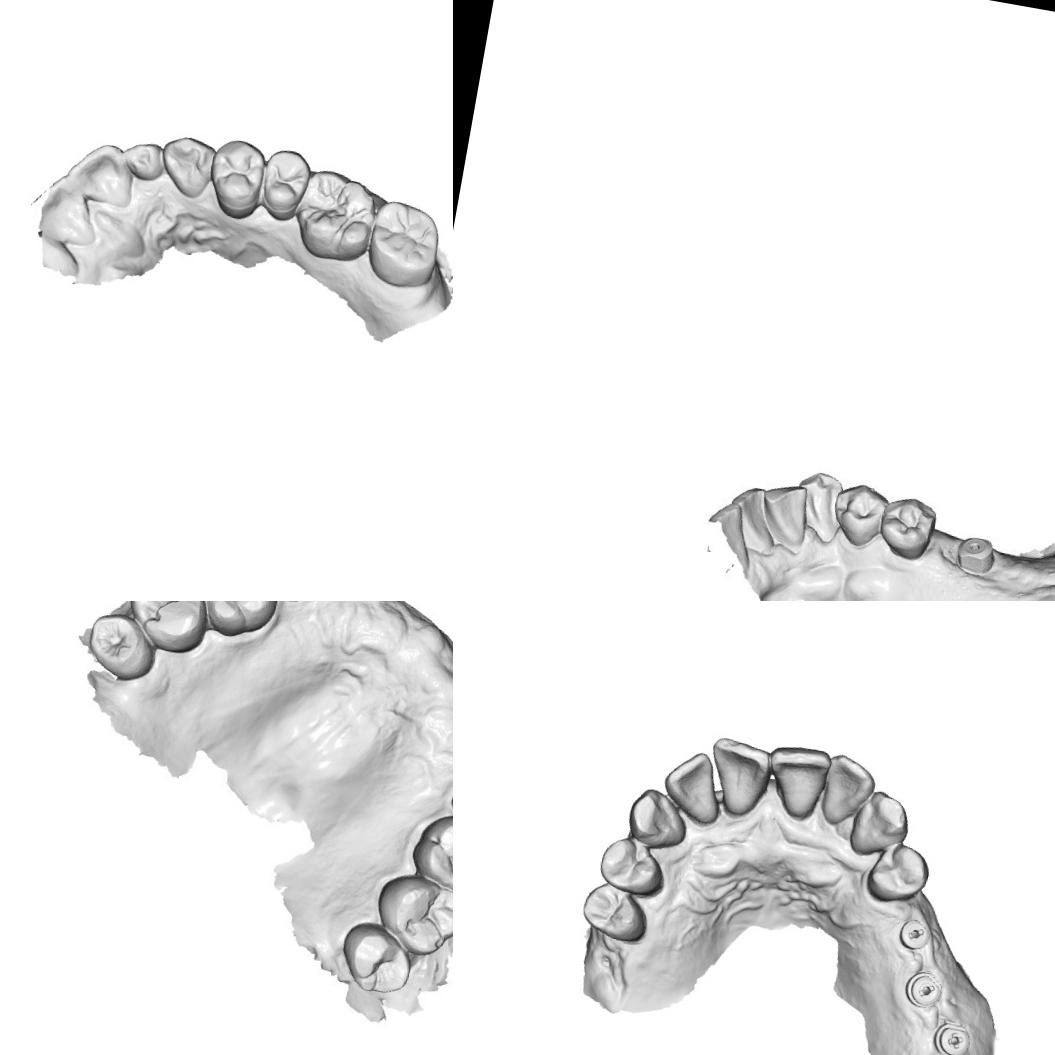canine: (844, 786, 914, 862), (622, 782, 694, 853), (153, 128, 218, 202), (791, 465, 848, 545)
implant: (951, 529, 1003, 582)
implant_minus: (898, 967, 946, 1013), (893, 916, 934, 954)
implant_plus: (928, 1017, 974, 1055)
incisor: (701, 734, 778, 822), (760, 738, 834, 824), (61, 134, 141, 211), (657, 745, 730, 828), (27, 176, 105, 248), (816, 750, 880, 830), (722, 480, 784, 560), (754, 478, 816, 556), (116, 136, 163, 184)
molar: (288, 162, 385, 268), (361, 196, 446, 294), (368, 867, 453, 962), (335, 917, 417, 997), (82, 608, 161, 684), (120, 601, 217, 657), (406, 806, 453, 900), (192, 601, 286, 644)
premolar: (201, 133, 273, 224), (576, 876, 654, 946), (862, 836, 934, 909), (252, 143, 315, 225), (594, 832, 669, 898), (874, 490, 942, 562), (827, 478, 889, 554)
